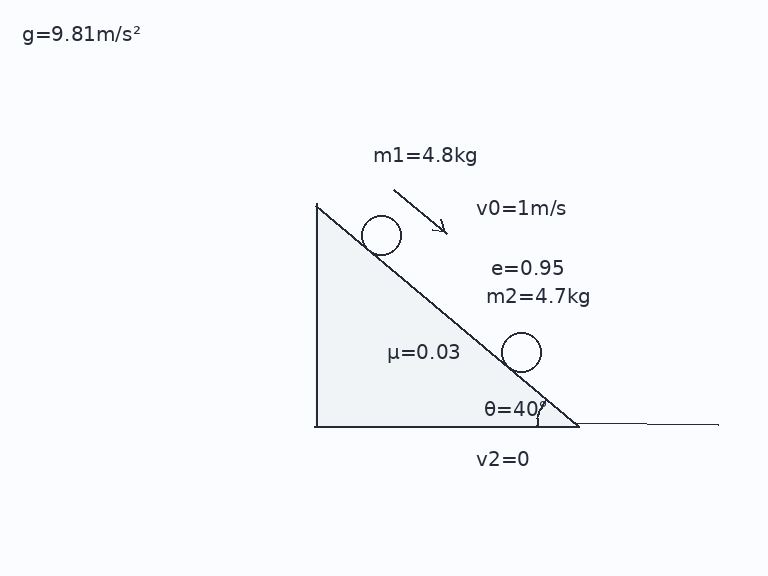ball: (359, 213, 403, 257), (499, 330, 543, 374)
ramp: (313, 203, 579, 427)
